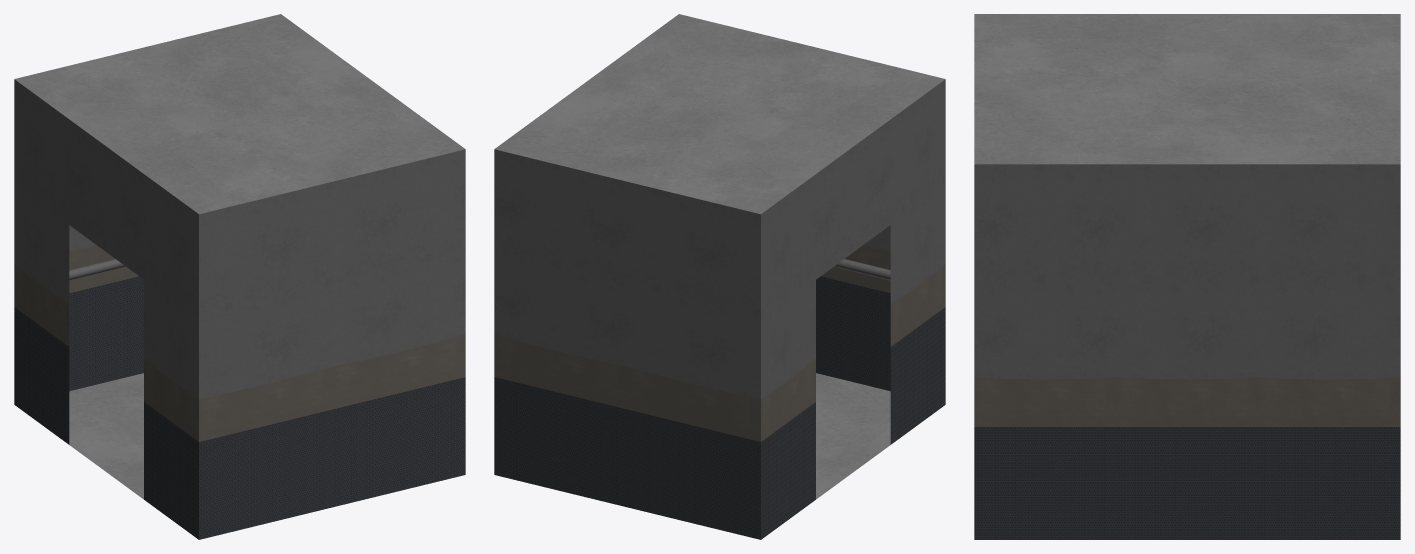
The model's file is Elevator_1-0.glb.
The picture shows the model from 3 angles, left to right: view 1: azimuth 30°, elevation 25°; view 2: azimuth 150°, elevation 25°; view 3: azimuth 270°, elevation 25°; orthographic projection. The views are drawn at different scales.
Parts seen in each view (by area): view 1: Cube; view 2: Cube; view 3: Cube.
Boxes of the visible parts, x1,y1,x2,y2 form: Cube: [14, 14, 465, 539]; Cube: [494, 14, 945, 539]; Cube: [974, 14, 1400, 539].
Bounding box in the file's own units: 3 × 3.5 × 3.6.
Materials: 3 (3 with a texture image).
